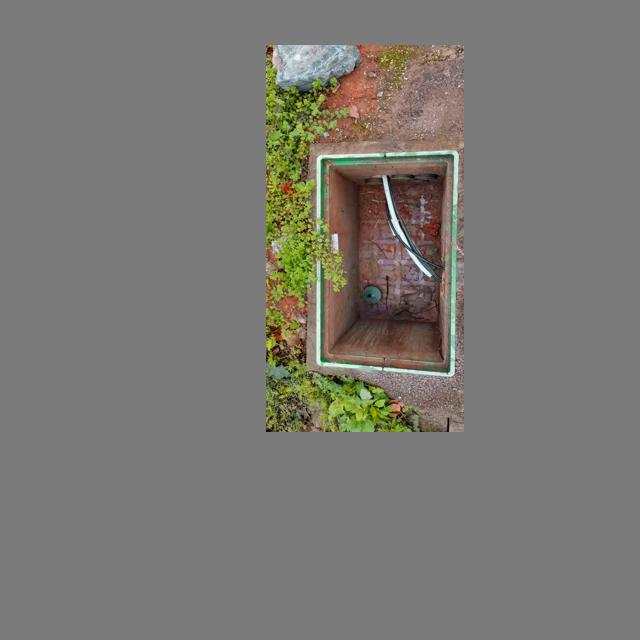lose: (317, 149, 460, 377)
